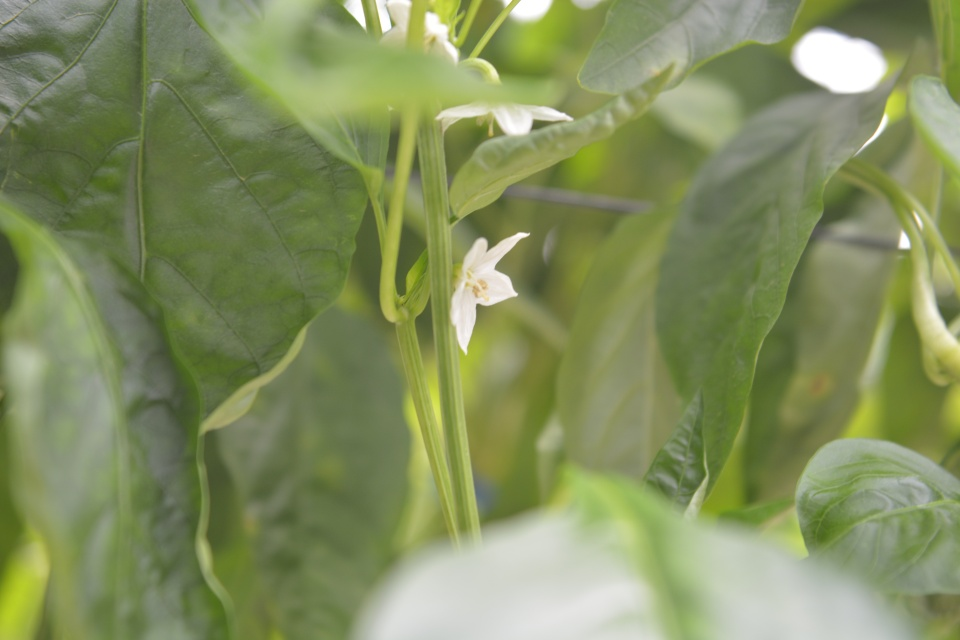flower: (448, 229, 532, 356), (371, 0, 462, 76), (433, 100, 576, 138)
